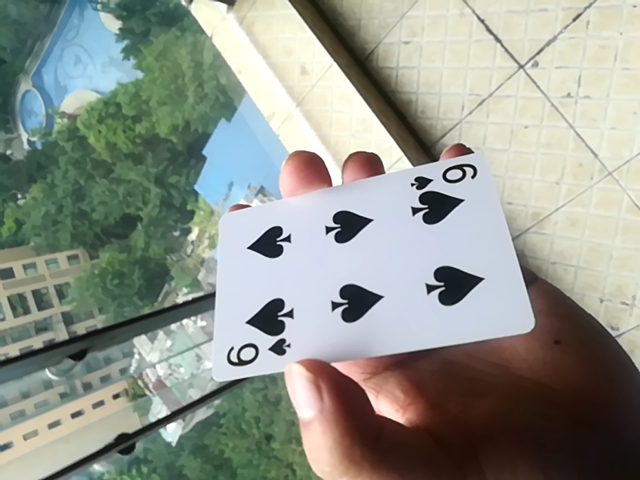ht 6: (202, 153, 538, 386)
